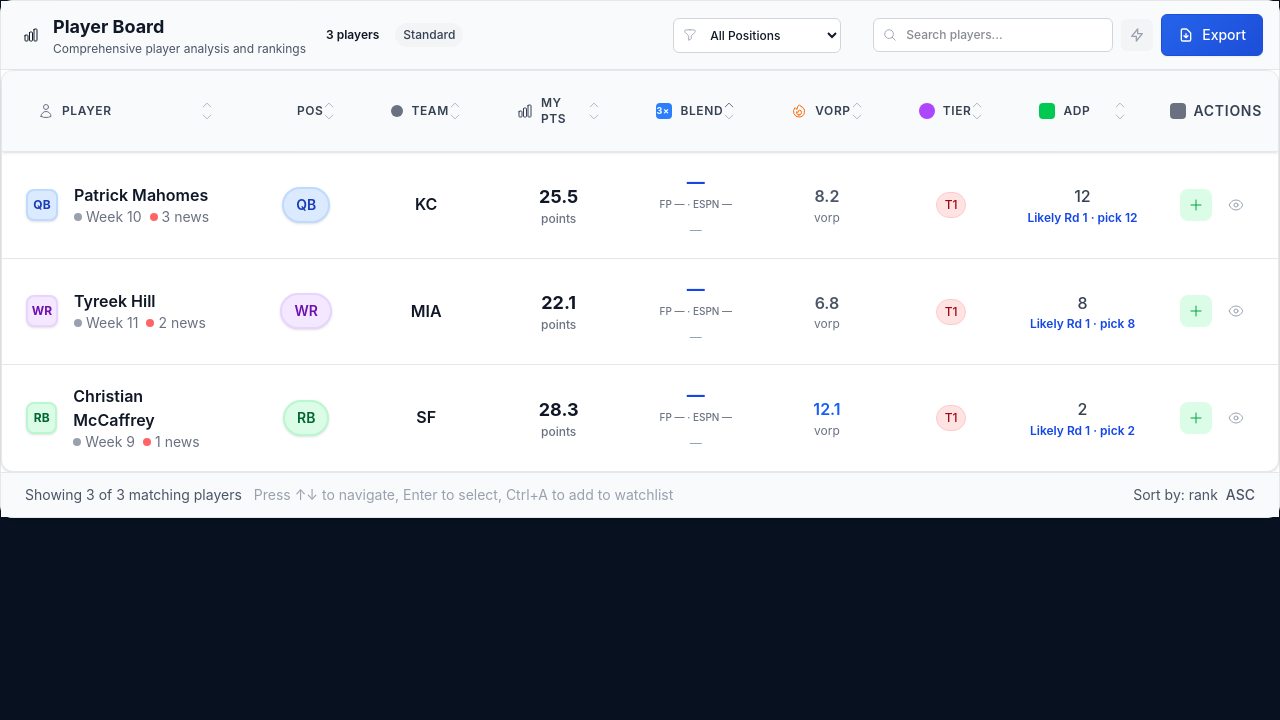
Test case: PlayerBoard › Player Expansion › expands player details when clicking expand button
Click the button with test id "expand-button-1" at (1236, 205), box top-left (1220, 189), bottom-right (1252, 221)
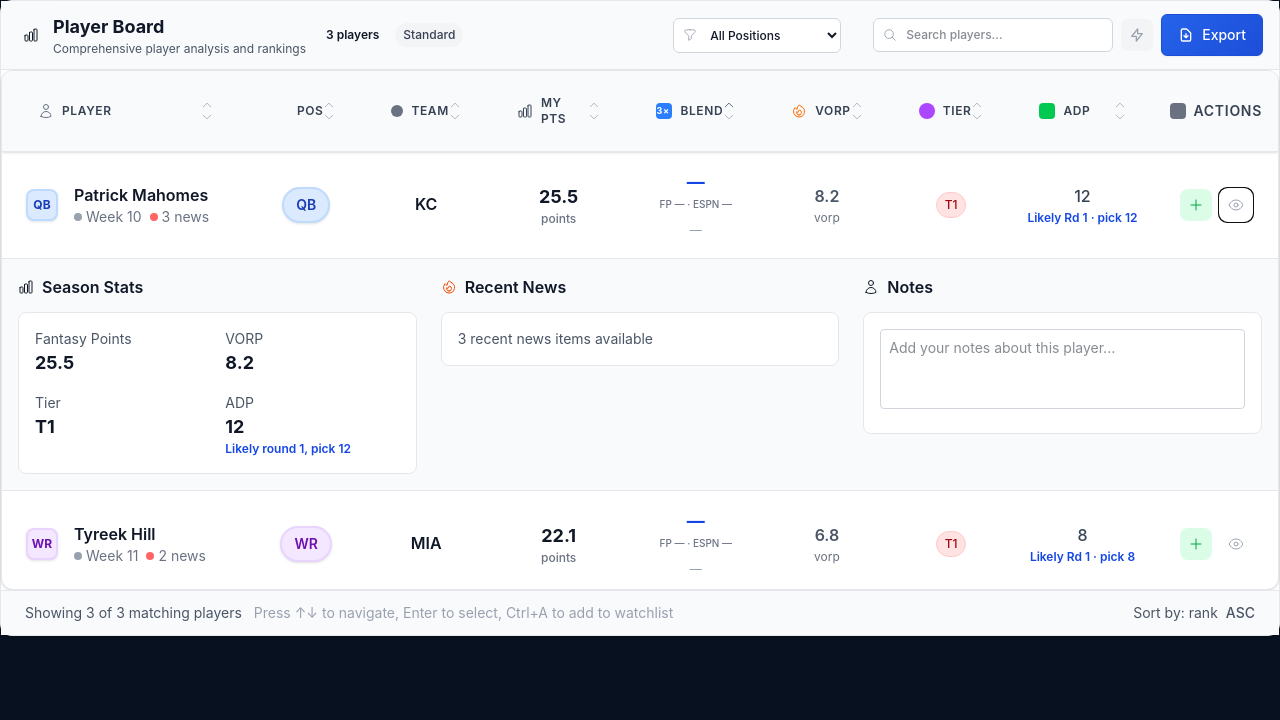
Expected: the heading "Season Stats" is shown, top-left (18, 277), bottom-right (143, 297)
Expected: the heading "Recent News" is shown, top-left (441, 277), bottom-right (566, 297)
